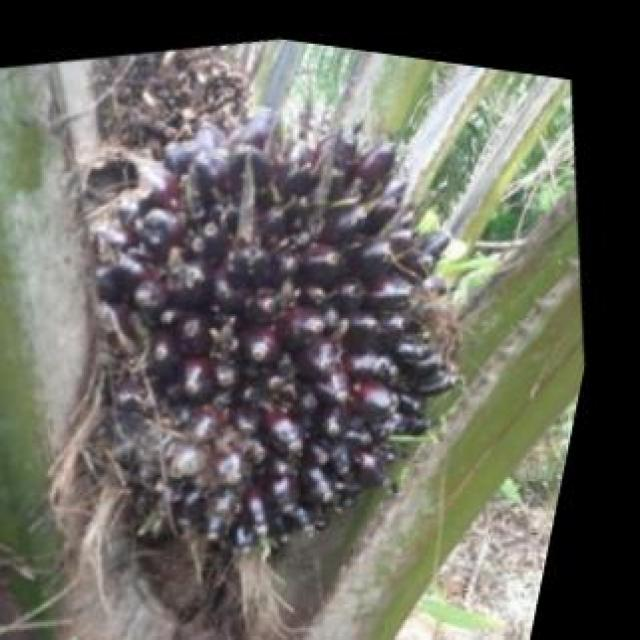Unripe: (18, 36, 552, 600)
